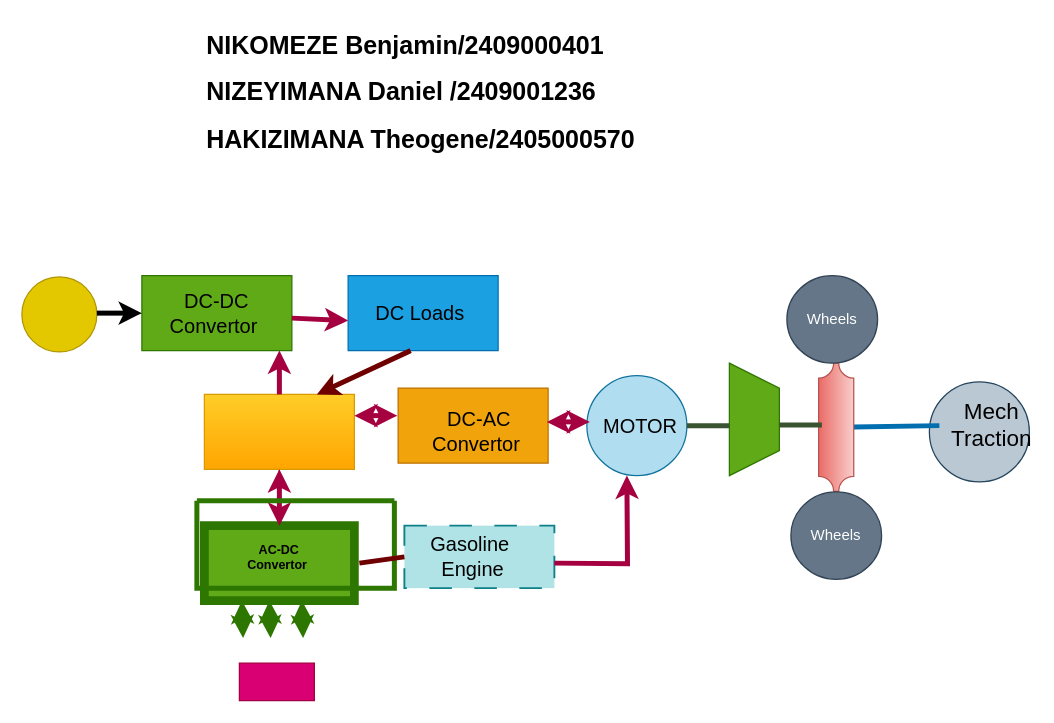
This 1054x723 diagram has some shape labels left out. The box of each missing label's shape, as (x1, y1, x2, y2) in pixels:
Battery Pack: (203, 393, 354, 469)
Cooling System: (728, 362, 779, 476)
GRID: (238, 662, 314, 701)
Stater: (21, 276, 97, 352)
